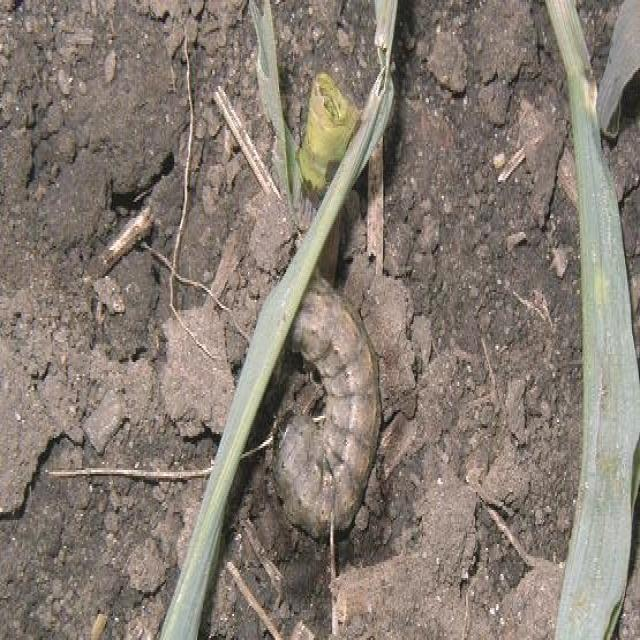black cutworm: (274, 276, 385, 546)
